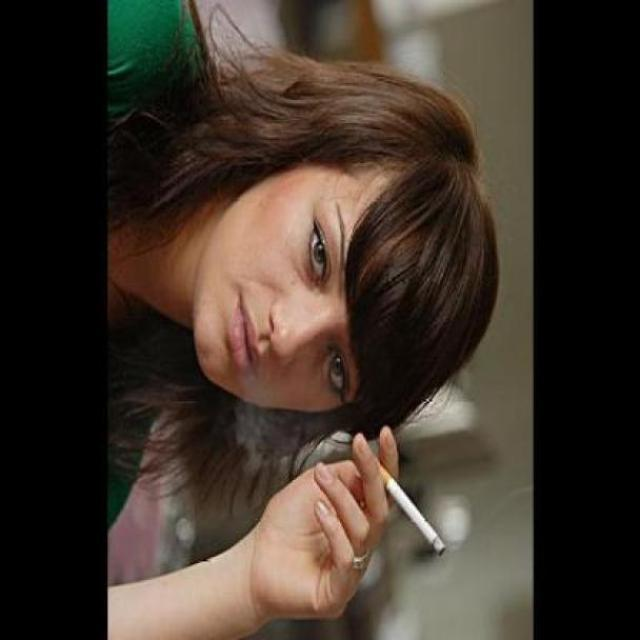rokok: (358, 444, 452, 564)
